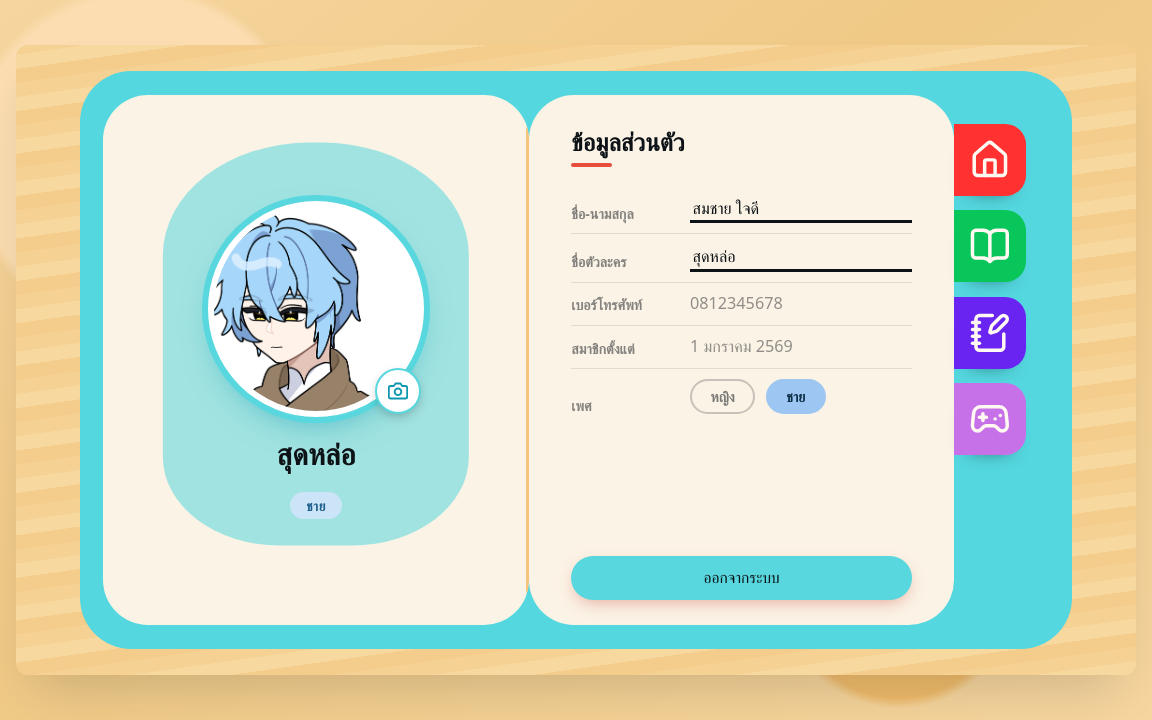
Test: ProfilePage – inline edit › shows success feedback after a successful save
Replace the text in the field showing "สมชาย ใจดี" with "ชื่อใหม่" at (801, 210), box x1=690 y1=196 x2=912 y2=223
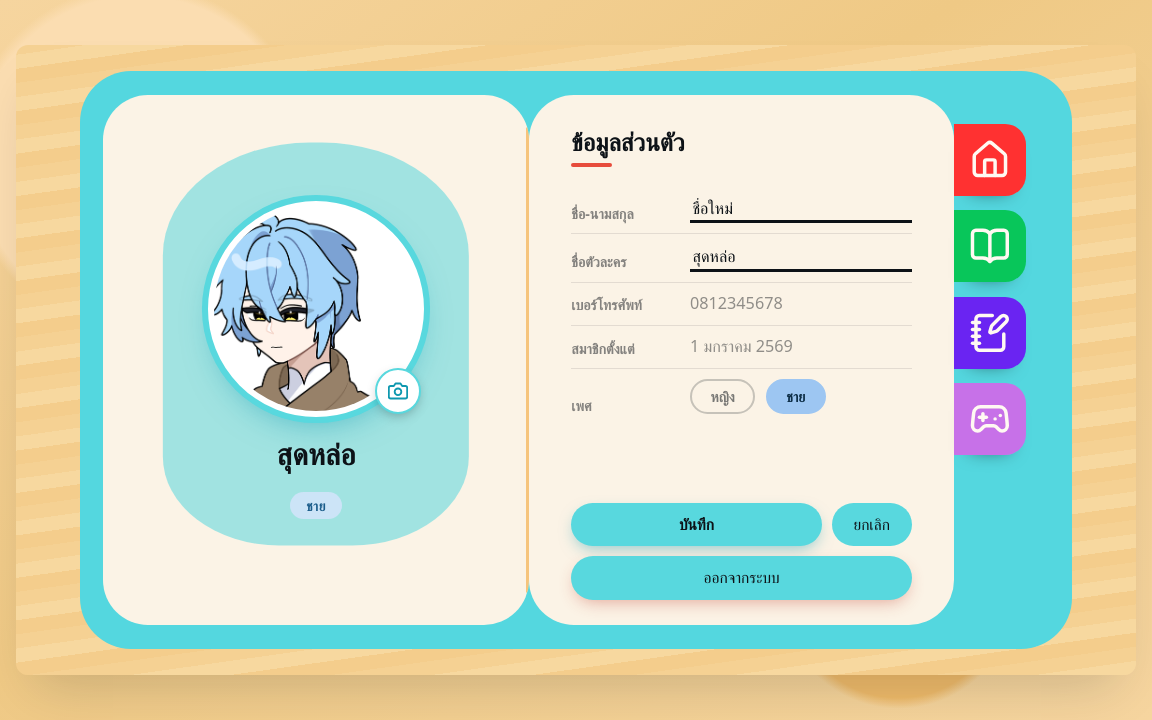
Click the button "บันทึก".
click(696, 524)  # box x1=571 y1=503 x2=822 y2=546
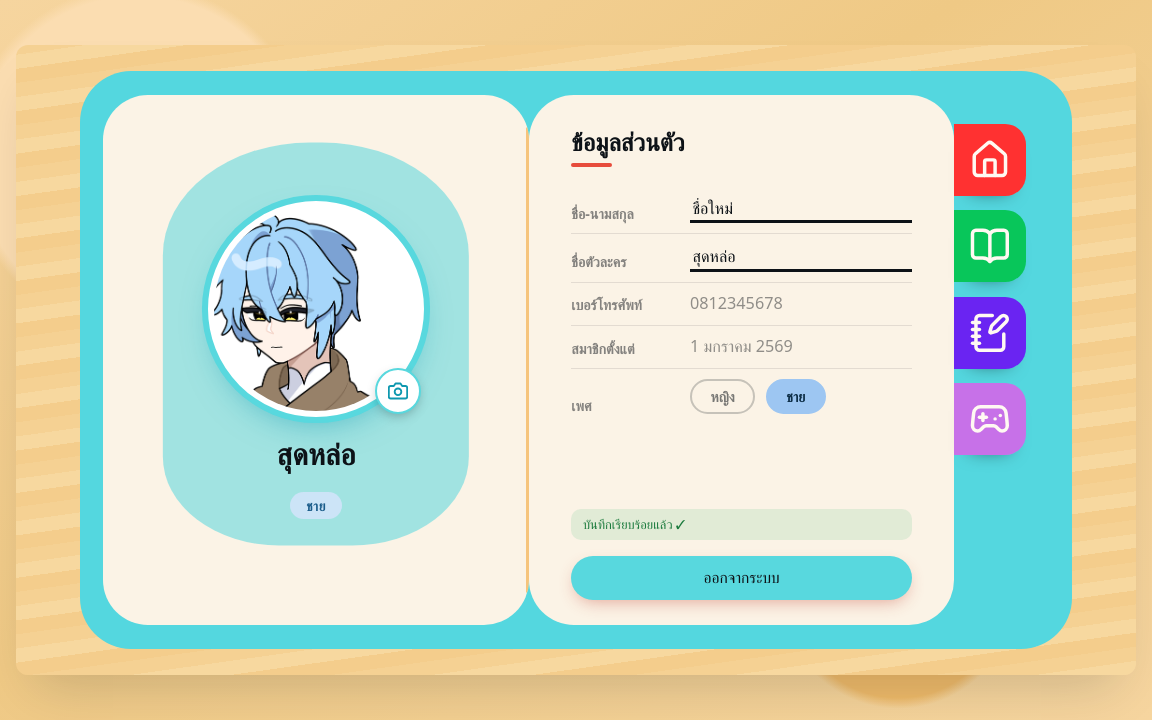
Now the text "บันทึกเรียบร้อยแล้ว ✓" is shown, box x1=571 y1=509 x2=912 y2=540
